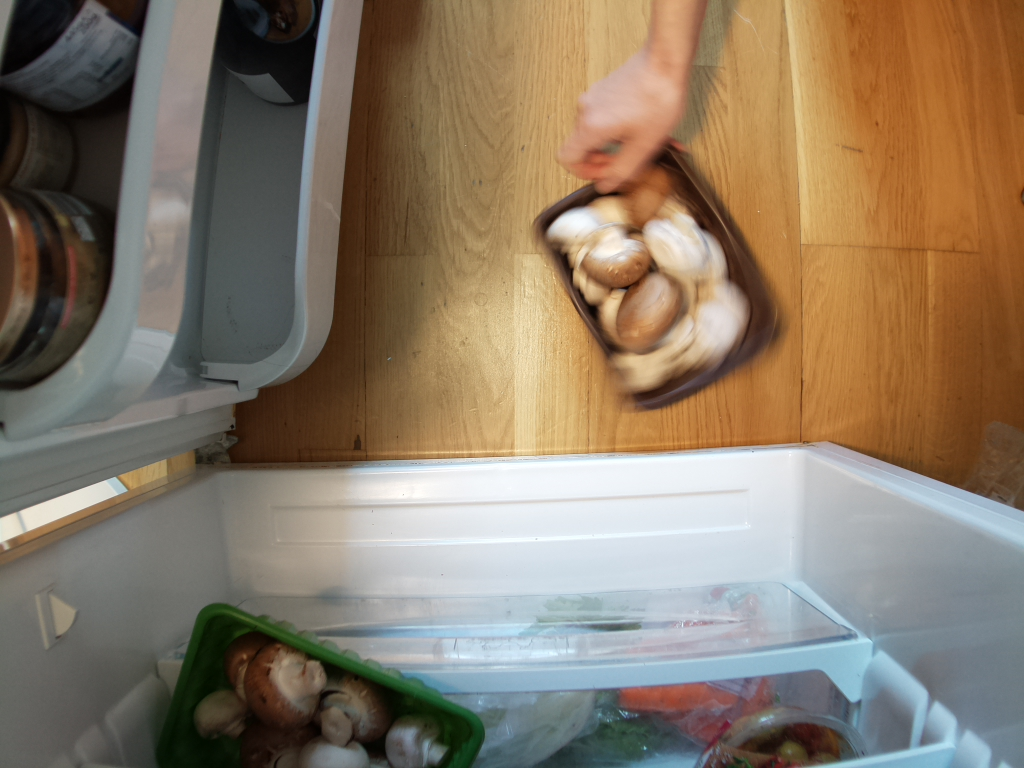mushrooms: (543, 156, 780, 411), (148, 611, 485, 768)
